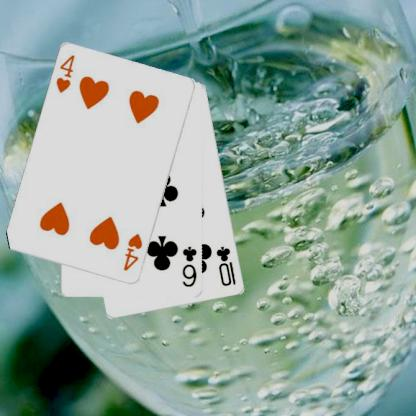10C: (214, 243, 238, 288)
4H: (53, 52, 76, 95), (121, 231, 144, 273)
6C: (180, 244, 199, 289)
